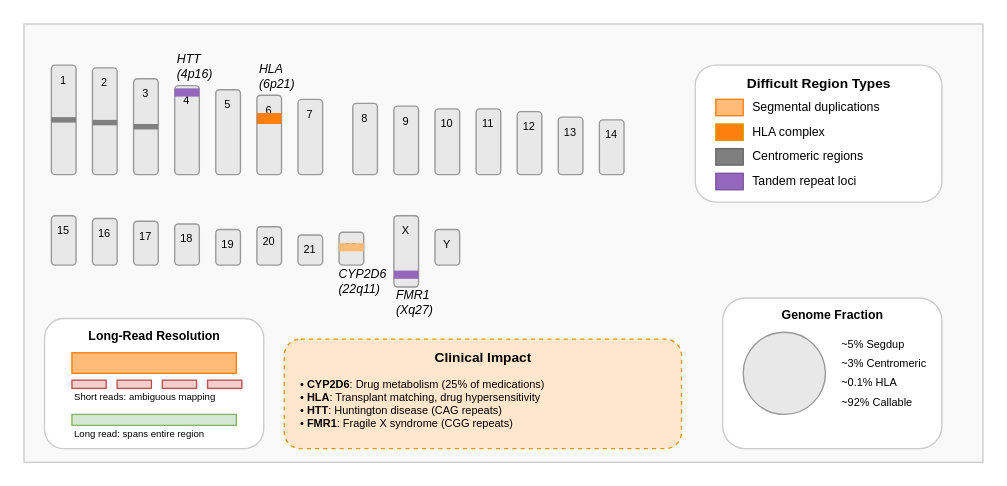
This 1007x486 diagram has some shape labels left out. The centre of each missing label's shape, as x and y in pixels:
"Difficult Region" belongs at point (153, 362).
"UPDATE PIE CHART!!!" belongs at point (783, 372).
